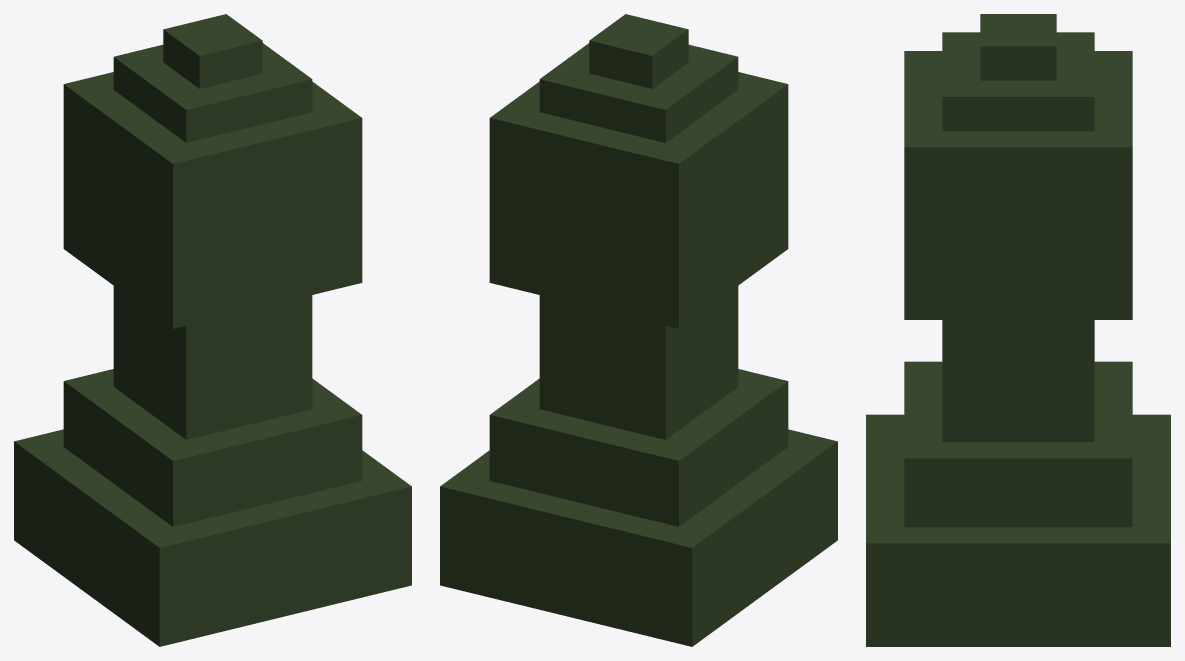
Rendered from token-v3-green.gltf.
3 renders of one model, left to right at view 1: azimuth 30°, elevation 25°; view 2: azimuth 150°, elevation 25°; view 3: azimuth 270°, elevation 25°, orthographic. The views are drawn at different scales.
Parts seen in each view (by area): view 1: Untitled; view 2: Untitled; view 3: Untitled.
Boxes of the visible parts, x1=… form: Untitled: x1=14, y1=14, x2=411, y2=646; Untitled: x1=440, y1=14, x2=837, y2=646; Untitled: x1=866, y1=14, x2=1170, y2=646.
Size of the model in its own units: 0.8 by 1.6 by 0.8.
1 material, 1 textured.
